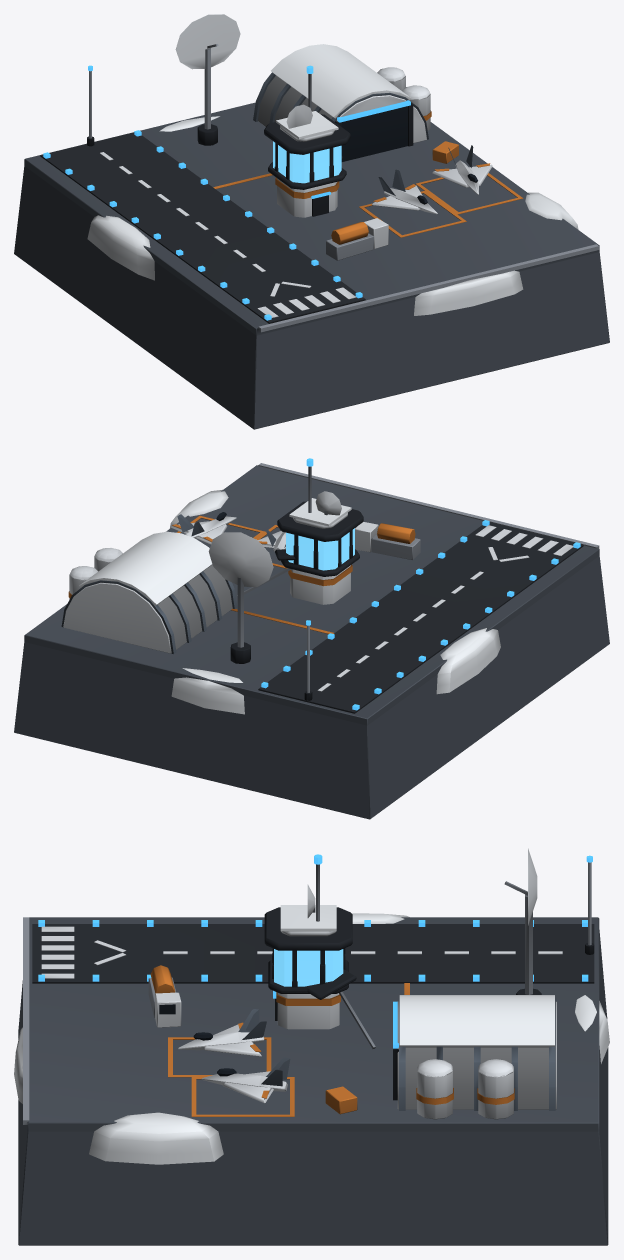
File: airfield-vesper.glb
3 renders of one model, top to bottom at view 1: azimuth 30°, elevation 25°; view 2: azimuth 150°, elevation 25°; view 3: azimuth 270°, elevation 25°, orthographic. The views are drawn at different scales.
Parts seen in each view (by area): view 1: site_airfield_vesper_body, site_airfield_vesper_core, site_airfield_vesper_ruin; view 2: site_airfield_vesper_body, site_airfield_vesper_core, site_airfield_vesper_ruin; view 3: site_airfield_vesper_body, site_airfield_vesper_core, site_airfield_vesper_ruin.
Part boxes in pixels (x1=…): site_airfield_vesper_body: x1=14, y1=14, x2=609, y2=429; site_airfield_vesper_core: x1=264, y1=65, x2=350, y2=189; site_airfield_vesper_ruin: x1=268, y1=156, x2=346, y2=188; site_airfield_vesper_body: x1=14, y1=463, x2=609, y2=819; site_airfield_vesper_core: x1=277, y1=458, x2=363, y2=576; site_airfield_vesper_ruin: x1=237, y1=545, x2=359, y2=596; site_airfield_vesper_body: x1=14, y1=848, x2=609, y2=1245; site_airfield_vesper_core: x1=264, y1=854, x2=352, y2=993; site_airfield_vesper_ruin: x1=268, y1=948, x2=375, y2=1048.
Size of the model in its own units: 5.66 by 3.33 by 6.36.
